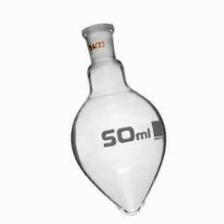Pear shaped flask: (53, 26, 170, 215)
